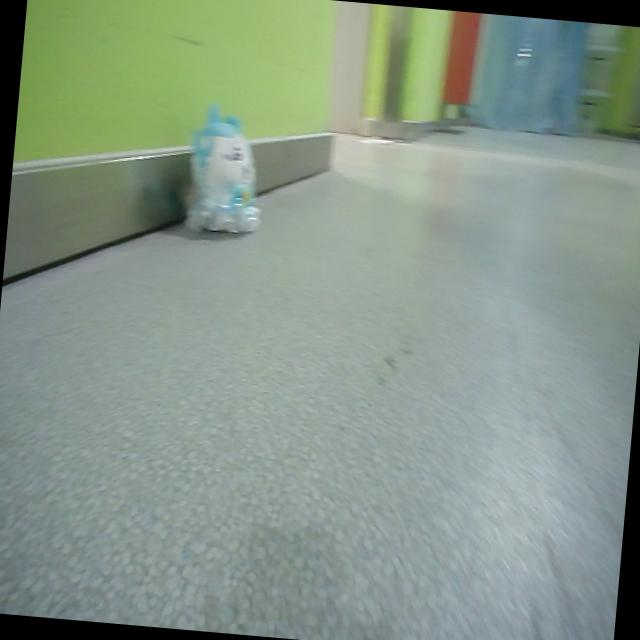xiaoba: (180, 108, 275, 240)
